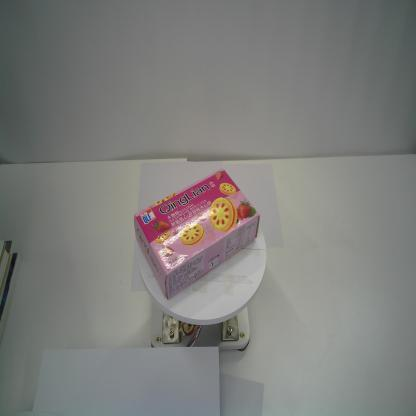Dessert: (133, 167, 261, 300)
